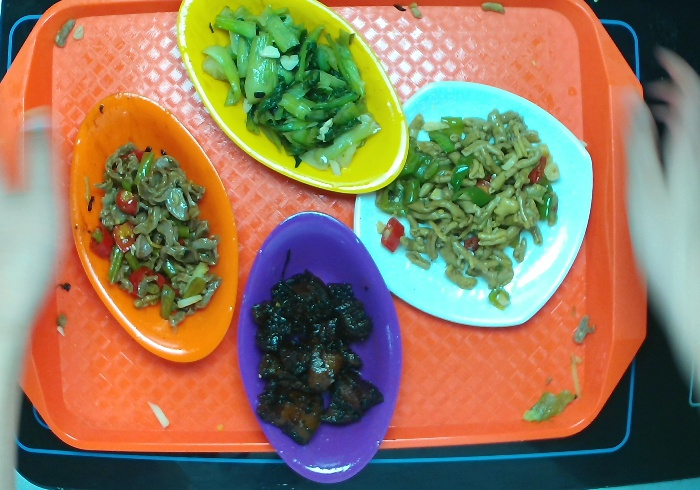RJxy-Fen_Hong_Tuo_Yuan: (236, 212, 403, 488)
RJxy-Huang_Se_Tuo_Yuan: (175, 1, 415, 194)
RJxy-Ju_Huang_Tuo_Yuan: (67, 91, 238, 368)
RJxy-Si_Fang_Die: (352, 76, 597, 331)
